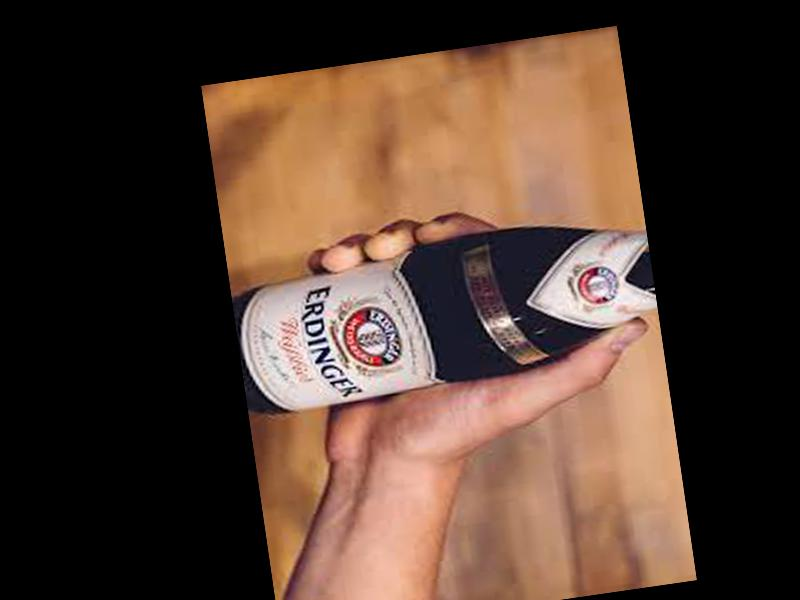Beer: (227, 210, 660, 420)
